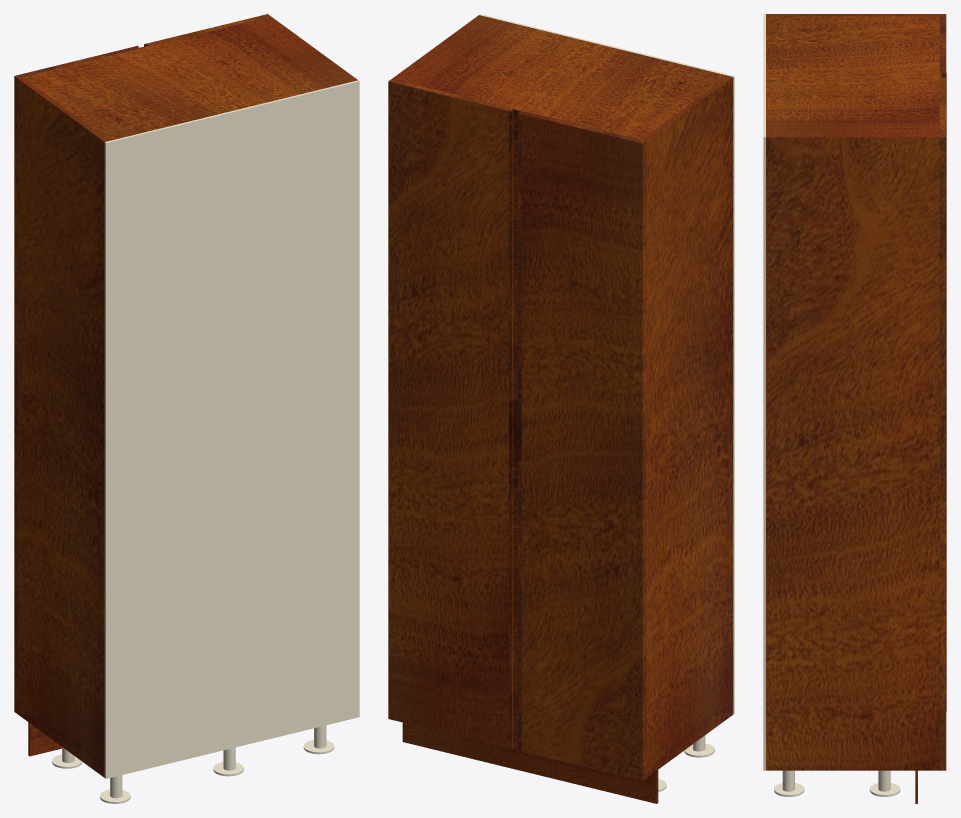
3 views of the same model, side by side, from view 1: azimuth 30°, elevation 25°; view 2: azimuth 150°, elevation 25°; view 3: azimuth 270°, elevation 25° (orthographic).
Parts seen in each view (by area): view 1: mesh7_mesh7-geometry, mesh15_mesh15-geometry, mesh3_mesh3-geometry, mesh11_mesh11-geometry, mesh19_mesh19-geometry, mesh5_mesh5-geometry; view 2: mesh11_mesh11-geometry, mesh9_mesh9-geometry, mesh15_mesh15-geometry, mesh3_mesh3-geometry, mesh17_mesh17-geometry, mesh5_mesh5-geometry, mesh7_mesh7-geometry; view 3: mesh13_mesh13-geometry, mesh3_mesh3-geometry, mesh9_mesh9-geometry, mesh7_mesh7-geometry, mesh19_mesh19-geometry, mesh17_mesh17-geometry, mesh15_mesh15-geometry, mesh11_mesh11-geometry.
Part boxes in pixels (bbox=[...]): mesh7_mesh7-geometry: bbox=[104, 80, 359, 778]; mesh15_mesh15-geometry: bbox=[17, 77, 108, 777]; mesh3_mesh3-geometry: bbox=[22, 17, 353, 140]; mesh11_mesh11-geometry: bbox=[14, 46, 137, 713]; mesh19_mesh19-geometry: bbox=[52, 725, 334, 803]; mesh5_mesh5-geometry: bbox=[28, 722, 61, 756]; mesh11_mesh11-geometry: bbox=[521, 111, 645, 780]; mesh9_mesh9-geometry: bbox=[388, 79, 512, 748]; mesh15_mesh15-geometry: bbox=[641, 76, 733, 778]; mesh3_mesh3-geometry: bbox=[397, 16, 727, 139]; mesh17_mesh17-geometry: bbox=[509, 108, 524, 751]; mesh5_mesh5-geometry: bbox=[402, 722, 658, 803]; mesh7_mesh7-geometry: bbox=[479, 14, 734, 714]; mesh13_mesh13-geometry: bbox=[766, 135, 939, 770]; mesh3_mesh3-geometry: bbox=[766, 16, 939, 134]; mesh9_mesh9-geometry: bbox=[939, 78, 946, 770]; mesh7_mesh7-geometry: bbox=[763, 14, 765, 770]; mesh19_mesh19-geometry: bbox=[774, 770, 900, 796]; mesh17_mesh17-geometry: bbox=[939, 72, 946, 711]; mesh15_mesh15-geometry: bbox=[766, 14, 939, 16]; mesh11_mesh11-geometry: bbox=[939, 14, 946, 72].
Bounding box in the file's own units: 0.3591 × 0.9056 × 0.2256.
